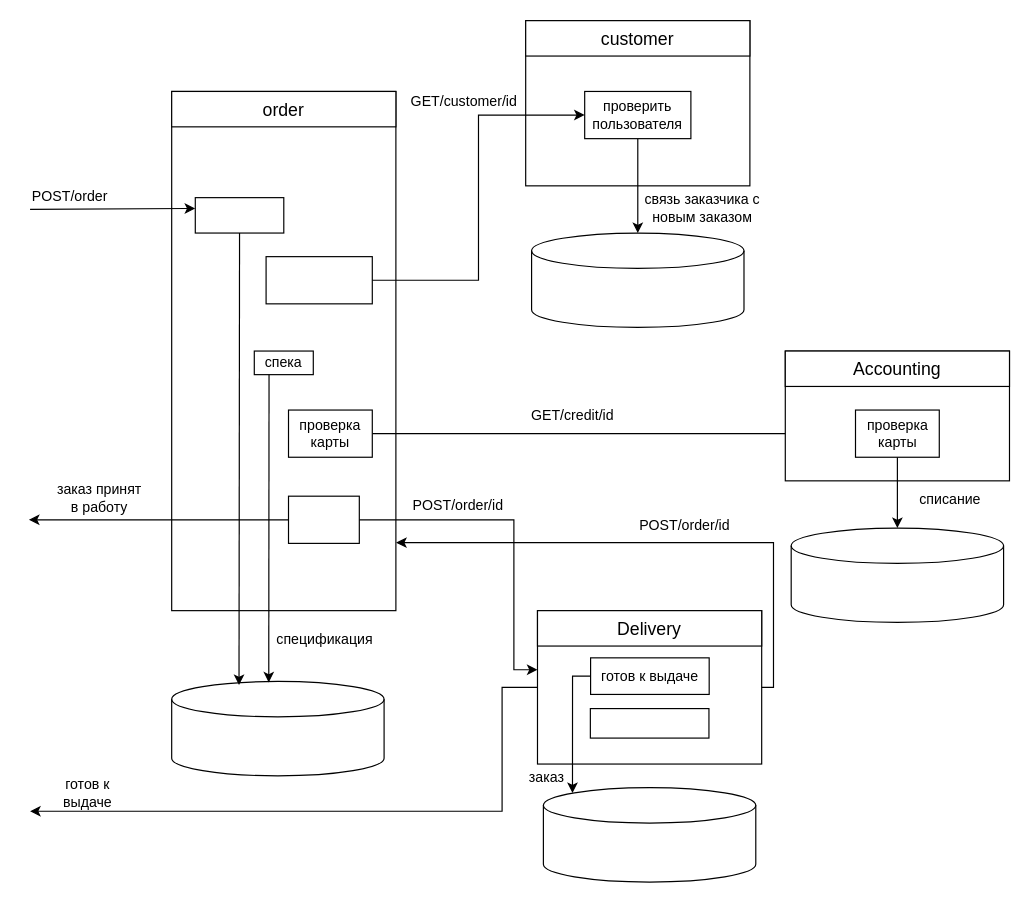
Image size: 1030x903. Some labels were removed from this diagram. Here are the shapes that lost their labels. From the top down, the centre of each, then its label:
At (239,214): "создать заказ".
At (318,279): "проверка пользователя".
At (323,519): "принят в работу".
At (649,722): "заказ получен".
